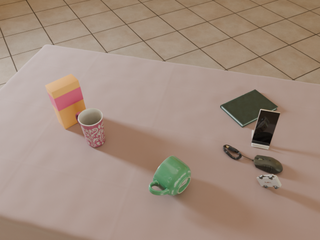book: (220, 89, 278, 127)
box: (45, 74, 86, 129)
cup: (149, 156, 191, 195), (75, 108, 105, 147)
mouse: (251, 155, 283, 174)
phone: (251, 109, 280, 146)
toy_car: (257, 174, 281, 189)
